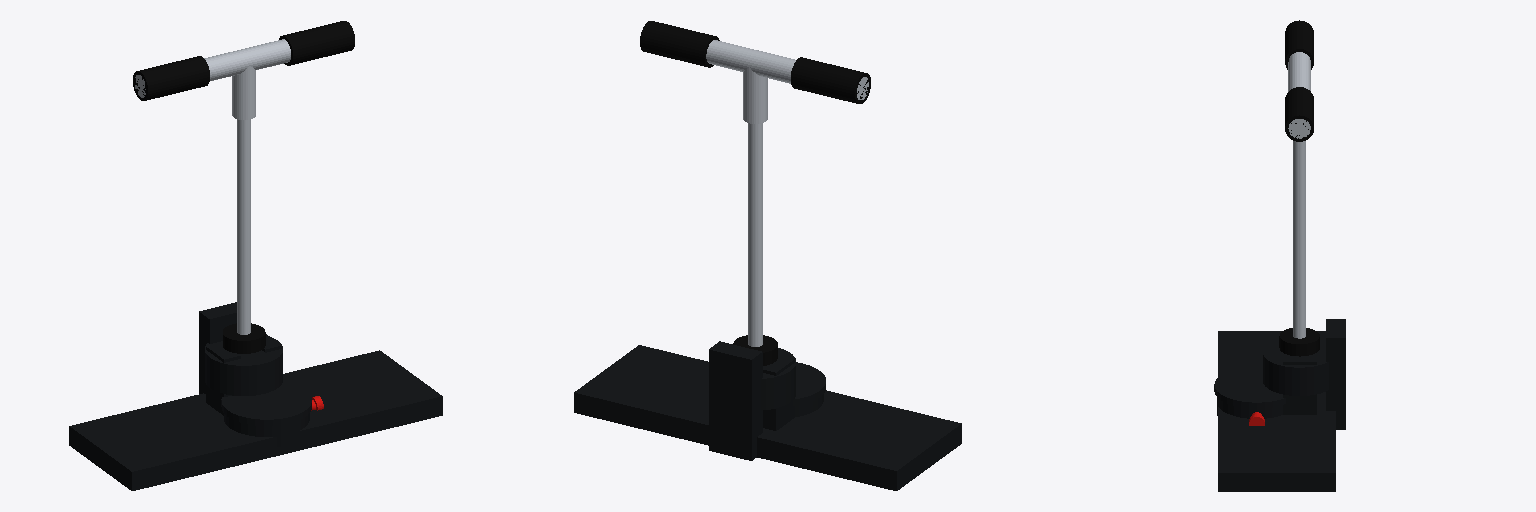
URDF robot description (compact_training_pump):
<robot name="compact_training_pump">
  <material name="frame_black">
    <color rgba="0.11 0.12 0.13 1" />
    </material>
  <material name="rubber_black">
    <color rgba="0.08 0.08 0.08 1" />
    </material>
  <material name="steel">
    <color rgba="0.74 0.76 0.79 1" />
    </material>
  <material name="dial">
    <color rgba="0.95 0.95 0.93 1" />
    </material>
  <material name="glass">
    <color rgba="0.72 0.8 0.86 0.3" />
    </material>
  <material name="signal_red">
    <color rgba="0.82 0.12 0.1 1" />
    </material>
  <link name="frame">
    <inertial>
      <origin xyz="0 0 0.18" rpy="0 0 0" />
      <mass value="1.8" />
      <inertia ixx="0.0210937" ixy="0" ixz="0" iyy="0.03294" iyz="0" izz="0.0151537" />
      </inertial>
    <visual name="foot">
      <origin xyz="0 0 0.009" rpy="0 0 0" />
      <geometry>
        <box size="0.3 0.105 0.018" />
        </geometry>
      <material name="frame_black">
        <color rgba="0.11 0.12 0.13 1" />
        </material>
      </visual>
    <visual name="bridge">
      <origin xyz="0 0.002 0.019" rpy="0 0 0" />
      <geometry>
        <box size="0.03 0.04 0.022" />
        </geometry>
      <material name="frame_black">
        <color rgba="0.11 0.12 0.13 1" />
        </material>
      </visual>
    <visual name="barrel_collar">
      <origin xyz="0 0.02 0.053" rpy="0 0 0" />
      <geometry>
        <cylinder radius="0.033" length="0.028" />
        </geometry>
      <material name="frame_black">
        <color rgba="0.11 0.12 0.13 1" />
        </material>
      </visual>
    <visual name="barrel_shell">
      <origin xyz="0 0.02 0.053" rpy="0 0 0" />
      <geometry>
        <mesh filename="assets/meshes/pump_barrel_shell.obj" />
        </geometry>
      <material name="frame_black">
        <color rgba="0.11 0.12 0.13 1" />
        </material>
      </visual>
    <visual name="strut_0">
      <origin xyz="-0.02 0.02 0.035" rpy="0 0 0" />
      <geometry>
        <box size="0.016 0.03 0.07" />
        </geometry>
      <material name="frame_black">
        <color rgba="0.11 0.12 0.13 1" />
        </material>
      </visual>
    <visual name="strut_1">
      <origin xyz="0.02 0.02 0.035" rpy="0 0 0" />
      <geometry>
        <box size="0.016 0.03 0.07" />
        </geometry>
      <material name="frame_black">
        <color rgba="0.11 0.12 0.13 1" />
        </material>
      </visual>
    <visual name="rear_brace">
      <origin xyz="0 0.052 0.045" rpy="0 0 0" />
      <geometry>
        <box size="0.04 0.018 0.09" />
        </geometry>
      <material name="frame_black">
        <color rgba="0.11 0.12 0.13 1" />
        </material>
      </visual>
    <visual name="gauge_housing">
      <origin xyz="0 -0.018 0.019" rpy="0 0 0" />
      <geometry>
        <cylinder radius="0.036" length="0.022" />
        </geometry>
      <material name="frame_black">
        <color rgba="0.11 0.12 0.13 1" />
        </material>
      </visual>
    <visual name="gauge_bezel">
      <origin xyz="0 -0.018 0.032" rpy="0 0 0" />
      <geometry>
        <cylinder radius="0.038" length="0.006" />
        </geometry>
      <material name="frame_black">
        <color rgba="0.11 0.12 0.13 1" />
        </material>
      </visual>
    <visual name="gauge_face">
      <origin xyz="0 -0.018 0.0297" rpy="0 0 0" />
      <geometry>
        <cylinder radius="0.03" length="0.0016" />
        </geometry>
      <material name="dial">
        <color rgba="0.95 0.95 0.93 1" />
        </material>
      </visual>
    <visual name="gauge_glass">
      <origin xyz="0 -0.018 0.0335" rpy="0 0 0" />
      <geometry>
        <cylinder radius="0.029" length="0.0026" />
        </geometry>
      <material name="glass">
        <color rgba="0.72 0.8 0.86 0.3" />
        </material>
      </visual>
    <visual name="button_boss">
      <origin xyz="0.0345 -0.018 0.02" rpy="0 1.5708 0" />
      <geometry>
        <mesh filename="assets/meshes/pump_button_boss.obj" />
        </geometry>
      <material name="frame_black">
        <color rgba="0.11 0.12 0.13 1" />
        </material>
      </visual>
    <collision name="foot">
      <origin xyz="0 0 0.009" rpy="0 0 0" />
      <geometry>
        <box size="0.3 0.105 0.018" />
        </geometry>
      </collision>
    <collision name="bridge">
      <origin xyz="0 0.002 0.019" rpy="0 0 0" />
      <geometry>
        <box size="0.03 0.04 0.022" />
        </geometry>
      </collision>
    <collision name="barrel_collar">
      <origin xyz="0 0.02 0.053" rpy="0 0 0" />
      <geometry>
        <cylinder radius="0.033" length="0.028" />
        </geometry>
      </collision>
    <collision name="barrel_shell">
      <origin xyz="0 0.02 0.053" rpy="0 0 0" />
      <geometry>
        <mesh filename="assets/meshes/pump_barrel_shell.obj" />
        </geometry>
      </collision>
    <collision name="strut_0">
      <origin xyz="-0.02 0.02 0.035" rpy="0 0 0" />
      <geometry>
        <box size="0.016 0.03 0.07" />
        </geometry>
      </collision>
    <collision name="strut_1">
      <origin xyz="0.02 0.02 0.035" rpy="0 0 0" />
      <geometry>
        <box size="0.016 0.03 0.07" />
        </geometry>
      </collision>
    <collision name="rear_brace">
      <origin xyz="0 0.052 0.045" rpy="0 0 0" />
      <geometry>
        <box size="0.04 0.018 0.09" />
        </geometry>
      </collision>
    <collision name="gauge_housing">
      <origin xyz="0 -0.018 0.019" rpy="0 0 0" />
      <geometry>
        <cylinder radius="0.036" length="0.022" />
        </geometry>
      </collision>
    <collision name="gauge_bezel">
      <origin xyz="0 -0.018 0.032" rpy="0 0 0" />
      <geometry>
        <cylinder radius="0.038" length="0.006" />
        </geometry>
      </collision>
    <collision name="gauge_face">
      <origin xyz="0 -0.018 0.0297" rpy="0 0 0" />
      <geometry>
        <cylinder radius="0.03" length="0.0016" />
        </geometry>
      </collision>
    <collision name="gauge_glass">
      <origin xyz="0 -0.018 0.0335" rpy="0 0 0" />
      <geometry>
        <cylinder radius="0.029" length="0.0026" />
        </geometry>
      </collision>
    <collision name="button_boss">
      <origin xyz="0.0345 -0.018 0.02" rpy="0 1.5708 0" />
      <geometry>
        <mesh filename="assets/meshes/pump_button_boss.obj" />
        </geometry>
      </collision>
    </link>
  <link name="rod">
    <inertial>
      <origin xyz="0 0 -0.078" rpy="0 0 0" />
      <mass value="0.45" />
      <inertia ixx="0.00307969" ixy="0" ixz="0" iyy="0.00486094" iyz="0" izz="0.00184875" />
      </inertial>
    <visual name="shaft">
      <origin xyz="0 0 -0.11" rpy="0 0 0" />
      <geometry>
        <cylinder radius="0.006" length="0.22" />
        </geometry>
      <material name="steel">
        <color rgba="0.74 0.76 0.79 1" />
        </material>
      </visual>
    <visual name="piston">
      <origin xyz="0 0 -0.206" rpy="0 0 0" />
      <geometry>
        <cylinder radius="0.018" length="0.012" />
        </geometry>
      <material name="rubber_black">
        <color rgba="0.08 0.08 0.08 1" />
        </material>
      </visual>
    <visual name="stem">
      <origin xyz="0 0 0.025" rpy="0 0 0" />
      <geometry>
        <cylinder radius="0.01" length="0.05" />
        </geometry>
      <material name="steel">
        <color rgba="0.74 0.76 0.79 1" />
        </material>
      </visual>
    <visual name="handle_bar">
      <origin xyz="0 0 0.05" rpy="0 1.5708 0" />
      <geometry>
        <cylinder radius="0.01" length="0.2" />
        </geometry>
      <material name="steel">
        <color rgba="0.74 0.76 0.79 1" />
        </material>
      </visual>
    <visual name="grip_0">
      <origin xyz="-0.07 0 0.05" rpy="0 1.5708 0" />
      <geometry>
        <cylinder radius="0.013" length="0.06" />
        </geometry>
      <material name="rubber_black">
        <color rgba="0.08 0.08 0.08 1" />
        </material>
      </visual>
    <visual name="grip_1">
      <origin xyz="0.07 0 0.05" rpy="0 1.5708 0" />
      <geometry>
        <cylinder radius="0.013" length="0.06" />
        </geometry>
      <material name="rubber_black">
        <color rgba="0.08 0.08 0.08 1" />
        </material>
      </visual>
    <collision name="shaft">
      <origin xyz="0 0 -0.11" rpy="0 0 0" />
      <geometry>
        <cylinder radius="0.006" length="0.22" />
        </geometry>
      </collision>
    <collision name="piston">
      <origin xyz="0 0 -0.206" rpy="0 0 0" />
      <geometry>
        <cylinder radius="0.018" length="0.012" />
        </geometry>
      </collision>
    <collision name="stem">
      <origin xyz="0 0 0.025" rpy="0 0 0" />
      <geometry>
        <cylinder radius="0.01" length="0.05" />
        </geometry>
      </collision>
    <collision name="handle_bar">
      <origin xyz="0 0 0.05" rpy="0 1.5708 0" />
      <geometry>
        <cylinder radius="0.01" length="0.2" />
        </geometry>
      </collision>
    <collision name="grip_0">
      <origin xyz="-0.07 0 0.05" rpy="0 1.5708 0" />
      <geometry>
        <cylinder radius="0.013" length="0.06" />
        </geometry>
      </collision>
    <collision name="grip_1">
      <origin xyz="0.07 0 0.05" rpy="0 1.5708 0" />
      <geometry>
        <cylinder radius="0.013" length="0.06" />
        </geometry>
      </collision>
    </link>
  <link name="needle">
    <inertial>
      <origin xyz="0.006 0 0.001" rpy="0 0 0" />
      <mass value="0.01" />
      <inertia ixx="6.66667e-08" ixy="0" ixz="0" iyy="1.09333e-06" iyz="0" izz="1.13333e-06" />
      </inertial>
    <visual name="hub">
      <origin xyz="0 0 0.0005" rpy="0 0 0" />
      <geometry>
        <cylinder radius="0.0042" length="0.001" />
        </geometry>
      <material name="signal_red">
        <color rgba="0.82 0.12 0.1 1" />
        </material>
      </visual>
    <visual name="arm">
      <origin xyz="0.011 0 0.0009" rpy="0 0 0" />
      <geometry>
        <box size="0.022 0.0025 0.0008" />
        </geometry>
      <material name="signal_red">
        <color rgba="0.82 0.12 0.1 1" />
        </material>
      </visual>
    <visual name="tip">
      <origin xyz="0.024 0 0.0009" rpy="0 0 0" />
      <geometry>
        <box size="0.012 0.004 0.0008" />
        </geometry>
      <material name="signal_red">
        <color rgba="0.82 0.12 0.1 1" />
        </material>
      </visual>
    <visual name="counterweight">
      <origin xyz="-0.007 0 0.0009" rpy="0 0 0" />
      <geometry>
        <box size="0.008 0.0018 0.0008" />
        </geometry>
      <material name="signal_red">
        <color rgba="0.82 0.12 0.1 1" />
        </material>
      </visual>
    <collision name="hub">
      <origin xyz="0 0 0.0005" rpy="0 0 0" />
      <geometry>
        <cylinder radius="0.0042" length="0.001" />
        </geometry>
      </collision>
    <collision name="arm">
      <origin xyz="0.011 0 0.0009" rpy="0 0 0" />
      <geometry>
        <box size="0.022 0.0025 0.0008" />
        </geometry>
      </collision>
    <collision name="tip">
      <origin xyz="0.024 0 0.0009" rpy="0 0 0" />
      <geometry>
        <box size="0.012 0.004 0.0008" />
        </geometry>
      </collision>
    <collision name="counterweight">
      <origin xyz="-0.007 0 0.0009" rpy="0 0 0" />
      <geometry>
        <box size="0.008 0.0018 0.0008" />
        </geometry>
      </collision>
    </link>
  <link name="button">
    <inertial>
      <origin xyz="0.01 0 0" rpy="0 0 0" />
      <mass value="0.015" />
      <inertia ixx="6.4e-07" ixy="0" ixz="0" iyy="8.2e-07" iyz="0" izz="8.2e-07" />
      </inertial>
    <visual name="stem">
      <origin xyz="0.005 0 0" rpy="0 1.5708 0" />
      <geometry>
        <cylinder radius="0.0048" length="0.01" />
        </geometry>
      <material name="signal_red">
        <color rgba="0.82 0.12 0.1 1" />
        </material>
      </visual>
    <visual name="cap">
      <origin xyz="0.012 0 0" rpy="0 1.5708 0" />
      <geometry>
        <cylinder radius="0.007" length="0.006" />
        </geometry>
      <material name="signal_red">
        <color rgba="0.82 0.12 0.1 1" />
        </material>
      </visual>
    <collision name="stem">
      <origin xyz="0.005 0 0" rpy="0 1.5708 0" />
      <geometry>
        <cylinder radius="0.0048" length="0.01" />
        </geometry>
      </collision>
    <collision name="cap">
      <origin xyz="0.012 0 0" rpy="0 1.5708 0" />
      <geometry>
        <cylinder radius="0.007" length="0.006" />
        </geometry>
      </collision>
    </link>
  <joint name="frame_to_rod" type="prismatic">
    <origin xyz="0 0.02 0.283" rpy="0 0 0" />
    <parent link="frame" />
    <child link="rod" />
    <axis xyz="0 0 1" />
    <limit effort="90" velocity="0.6" lower="0" upper="0.17" />
    </joint>
  <joint name="frame_to_needle" type="revolute">
    <origin xyz="0 -0.018 0.0308" rpy="0 0 0" />
    <parent link="frame" />
    <child link="needle" />
    <axis xyz="0 0 1" />
    <limit effort="0.05" velocity="8" lower="-1.15" upper="1.15" />
    </joint>
  <joint name="frame_to_button" type="prismatic">
    <origin xyz="0.036 -0.018 0.02" rpy="0 0 0" />
    <parent link="frame" />
    <child link="button" />
    <axis xyz="-1 0 0" />
    <limit effort="4" velocity="0.05" lower="0" upper="0.003" />
    </joint>
  </robot>

--- What the picture shows (computed from the rendered views, not written in the file) ---
The picture shows the robot from 3 angles, left to right: view 1: azimuth 30°, elevation 25°; view 2: azimuth 150°, elevation 25°; view 3: azimuth 270°, elevation 25°; orthographic projection.
Model compact_training_pump with 4 links and 3 joints (1 revolute, 2 prismatic), rooted at frame, posed all joints at 0.
Visible links, largest first — view 1: frame, rod; view 2: frame, rod; view 3: frame, rod.
Link boxes in pixels (x1,y1,x2,y2): frame: (69, 302, 442, 490); rod: (133, 21, 354, 353); frame: (574, 341, 961, 490); rod: (640, 21, 870, 365); frame: (1214, 319, 1345, 491); rod: (1279, 20, 1319, 356).
Size in the robot's own frame: 0.3 by 0.117 by 0.346 metres.
0 mesh visuals loaded from 2 distinct referenced files (none loaded); not drawn: 2 (reference not matched to a file when rendering).
